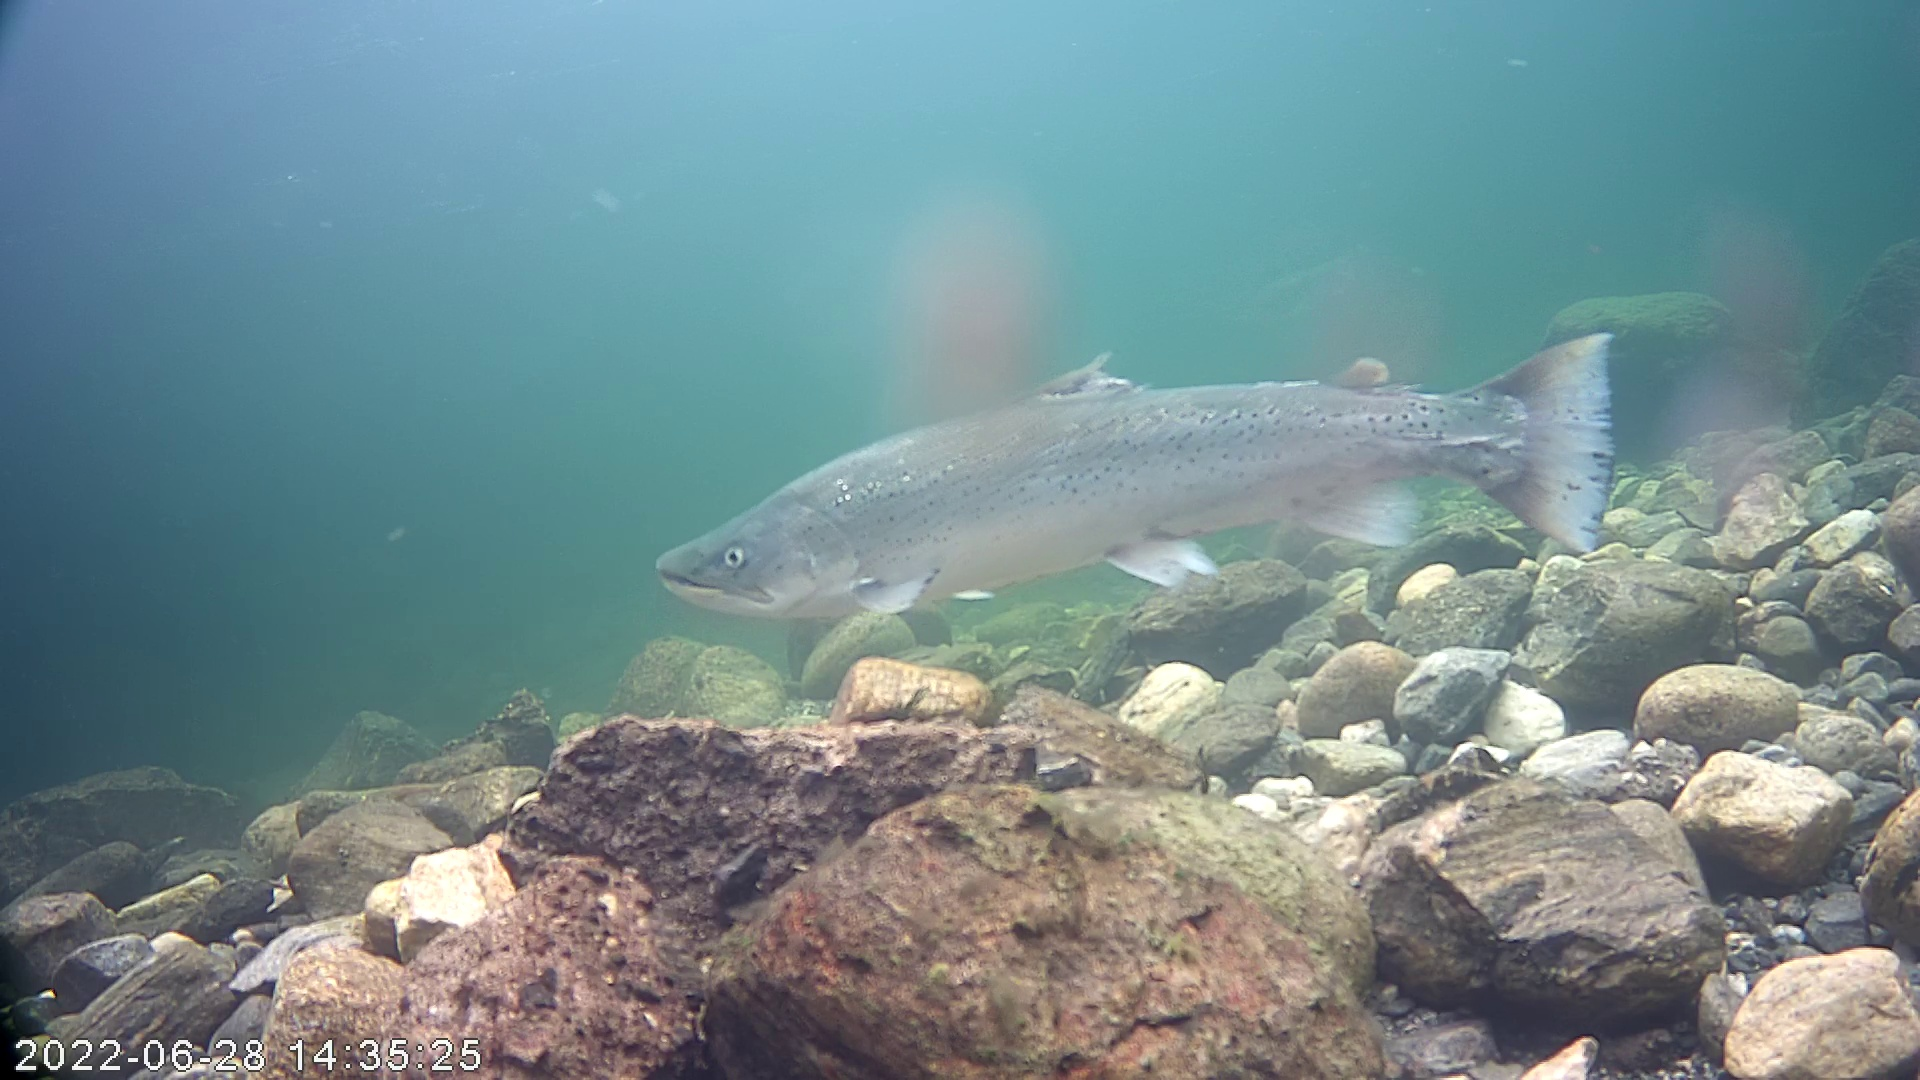salmon: (637, 208, 1663, 647)
